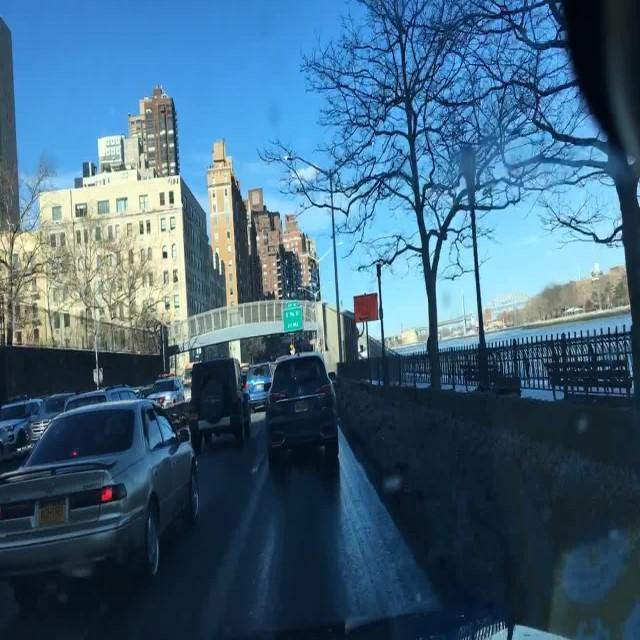normal: (0, 380, 209, 602), (245, 337, 350, 479)
